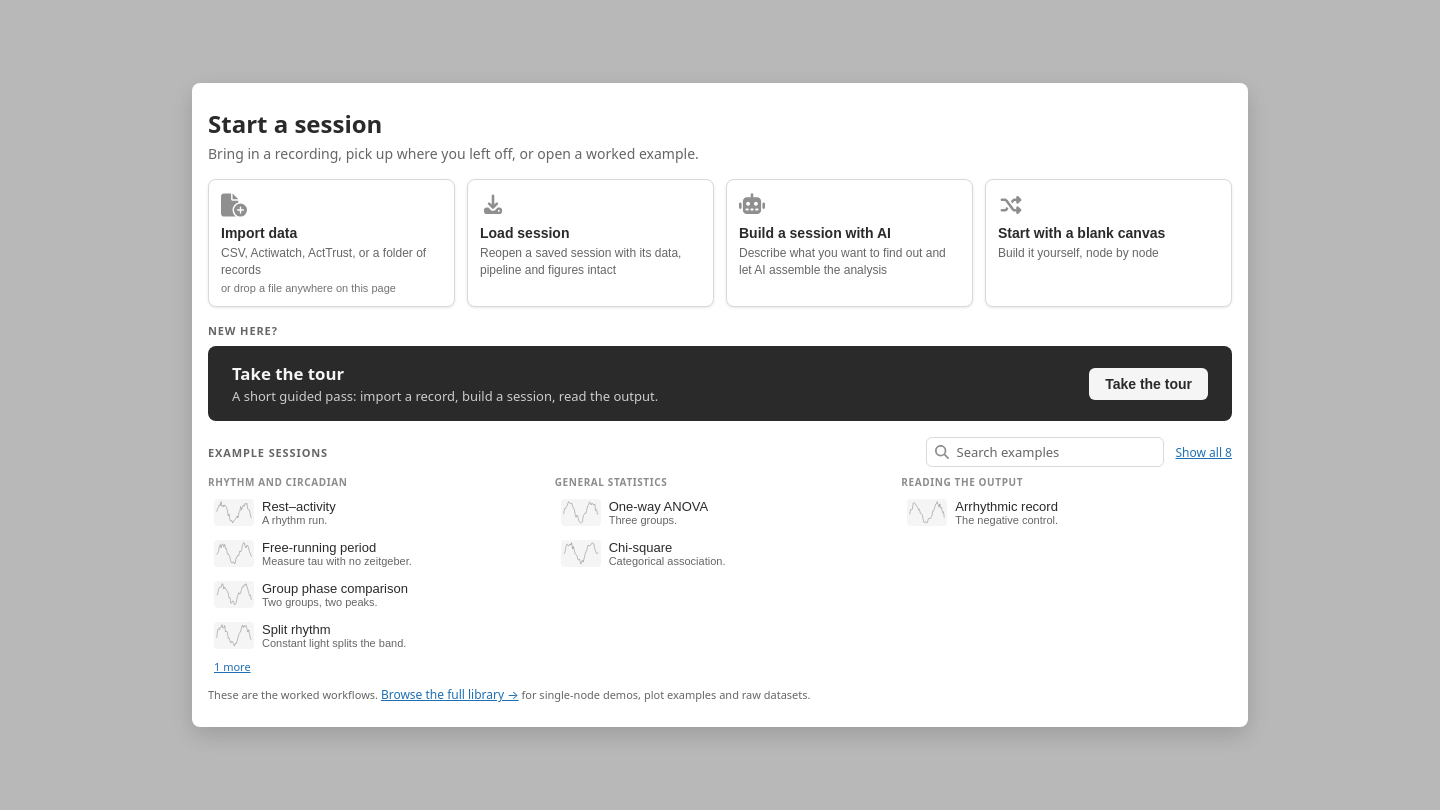
Scenario: search › matches on the summary and on the group name, not just the title
Expected: the text "Rest–activity" is shown, [262,499,336,514]
Type "zeitgeber" into the search field labelled "Search examples". click: (1054, 452)
box: [954,442,1154,462]
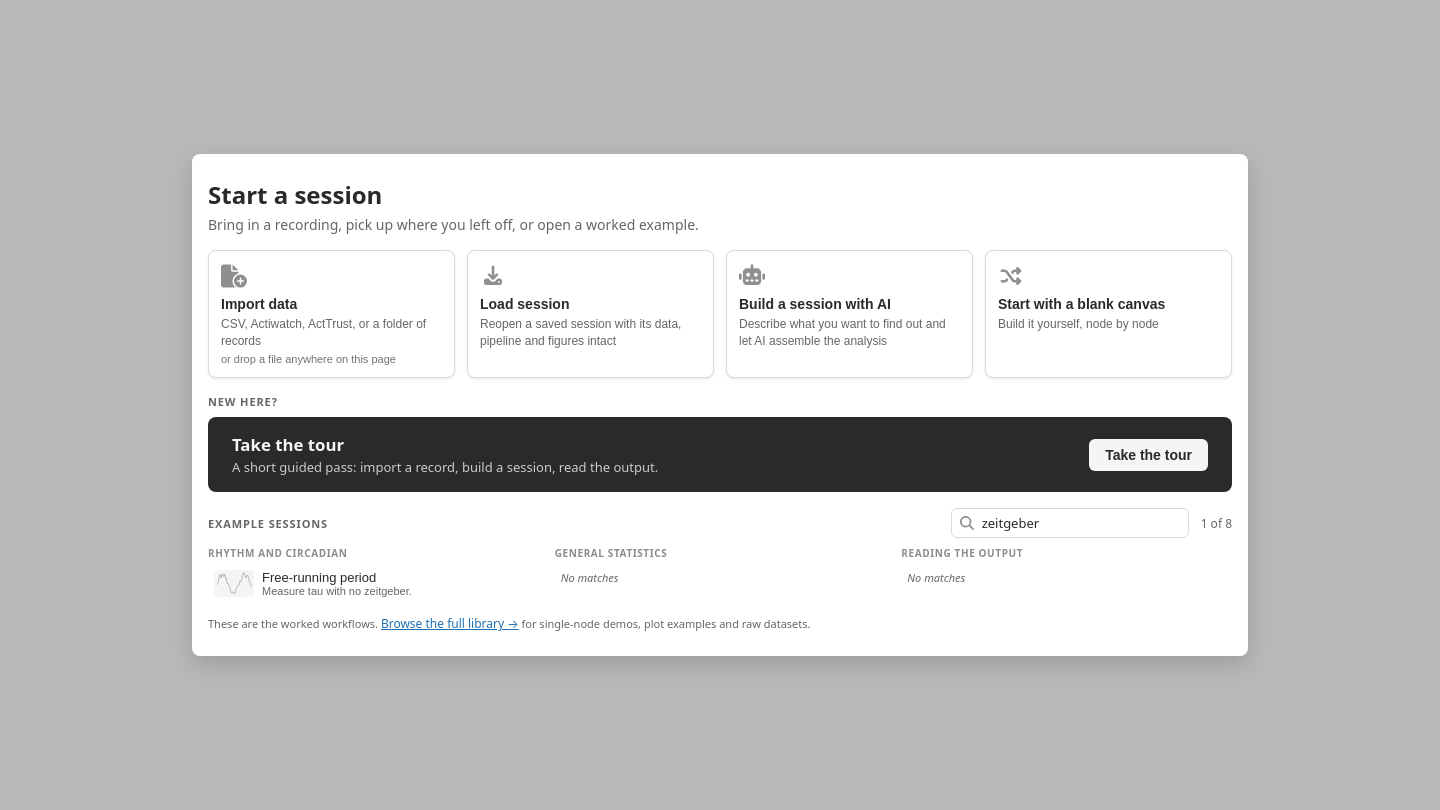
Expected: the text "Free-running period" is shown, [262,570,376,585]
Replace the text in the search field named "Search example" with "reading". click: (1080, 523)
box: [980,513,1180,533]
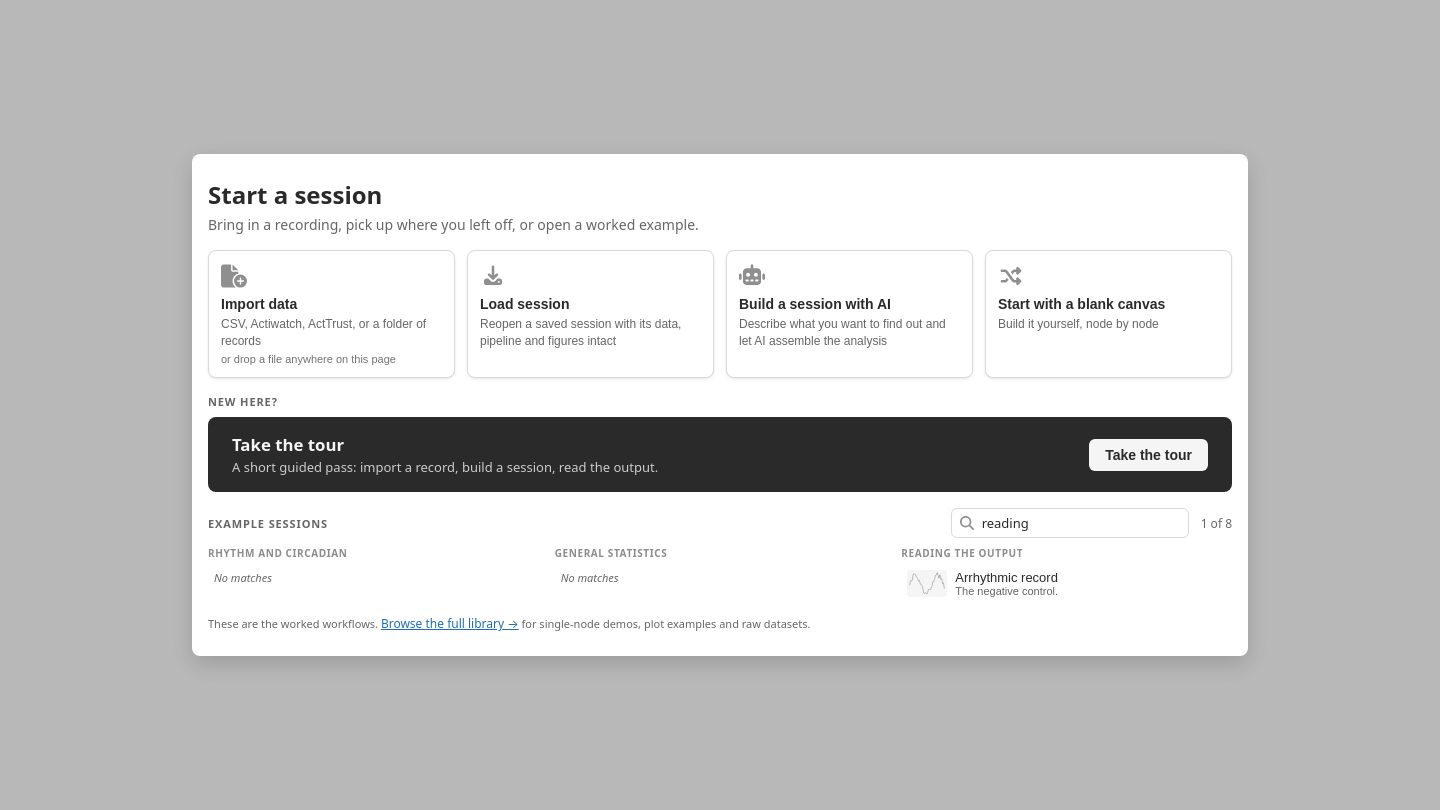
Now the text "Arrhythmic record" is shown, box [955,570,1058,585]
